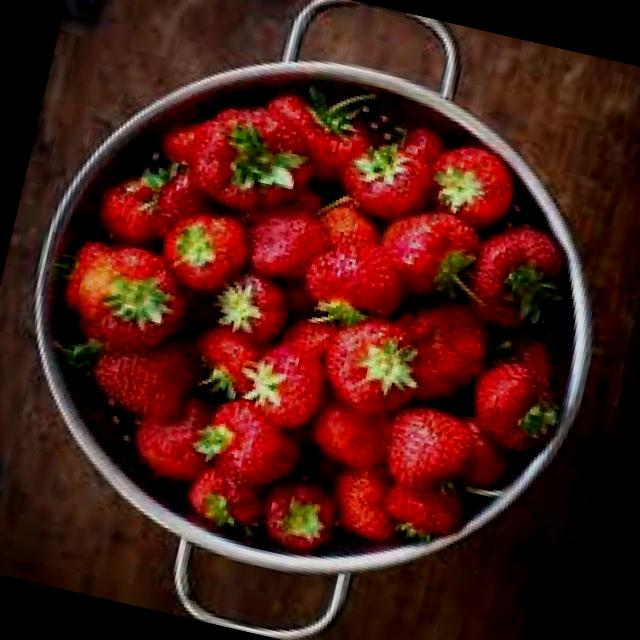strawberry: (452, 209, 573, 335), (157, 106, 286, 202), (370, 403, 477, 509), (471, 347, 581, 448), (314, 314, 418, 419), (383, 198, 487, 298), (198, 393, 298, 488), (99, 333, 193, 428), (260, 468, 342, 556), (165, 206, 248, 290)
